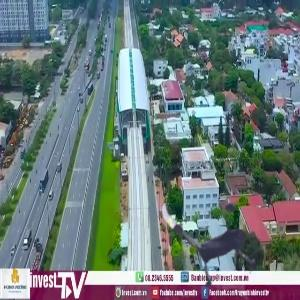drone: (155, 168, 287, 300)
